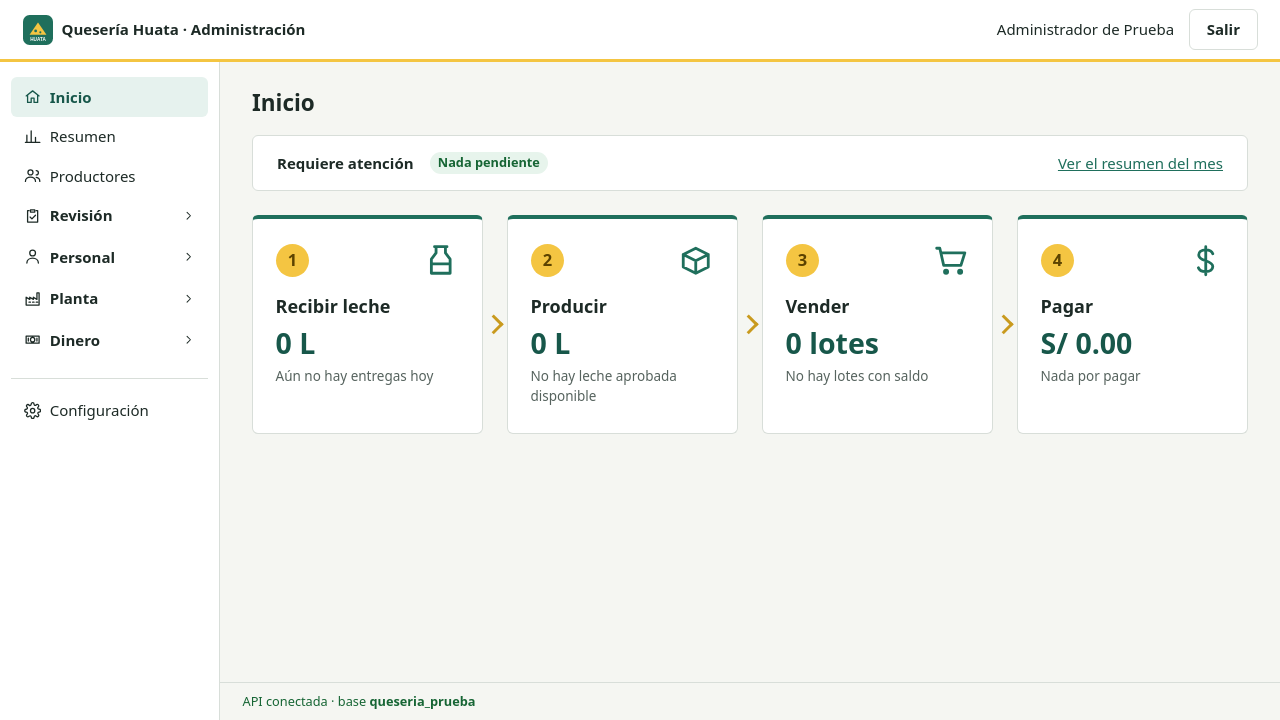
Test: menú › Dinero lleva a Movimientos
The width and height of the screenshot is (1280, 720).
Click the button "Dinero" at (110, 340), box [11,320,208,360]
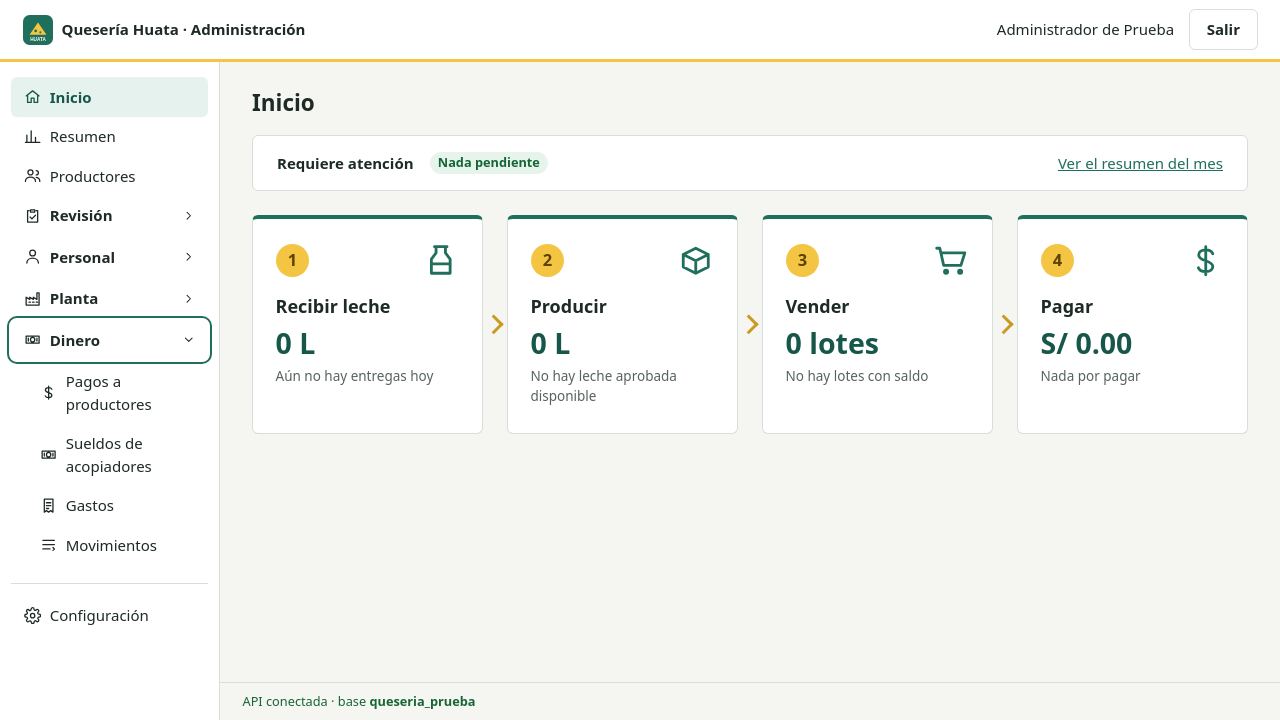
Click the link "Movimientos" at (98, 544), box [40,534,157,554]
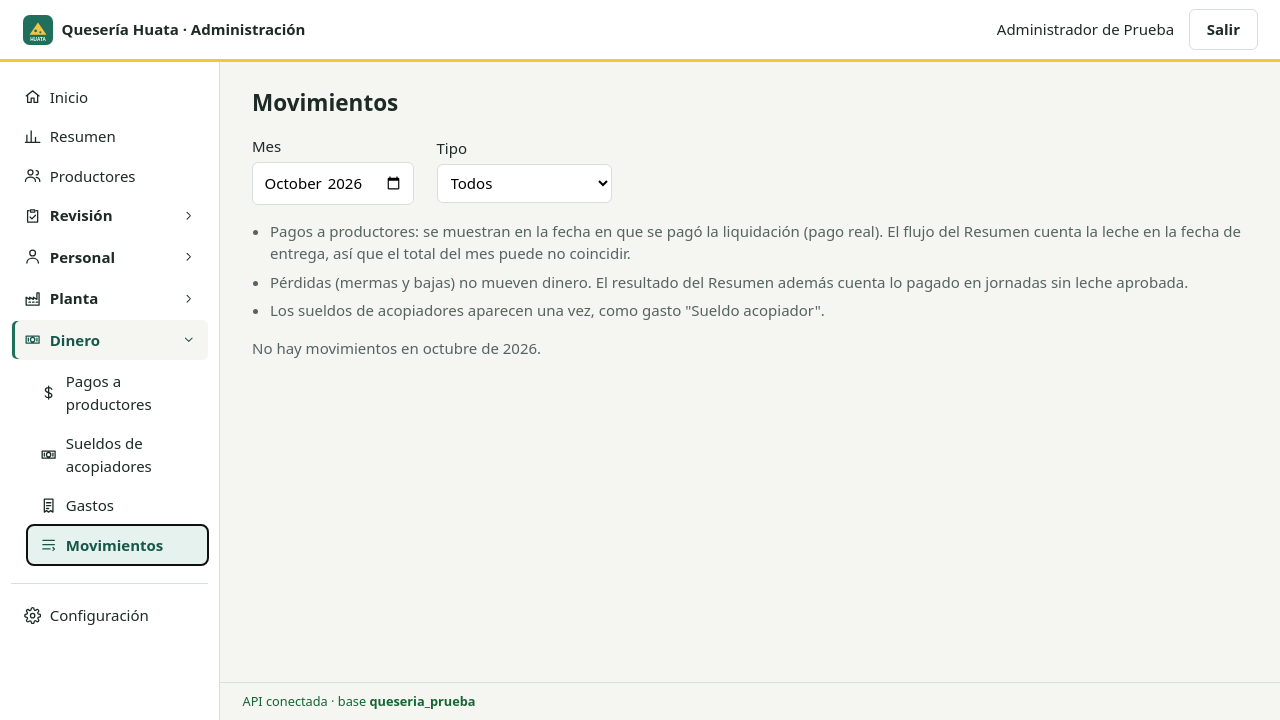
Expected: the text "No hay movimientos en octubre de 2026." is shown, [252,338,541,358]
